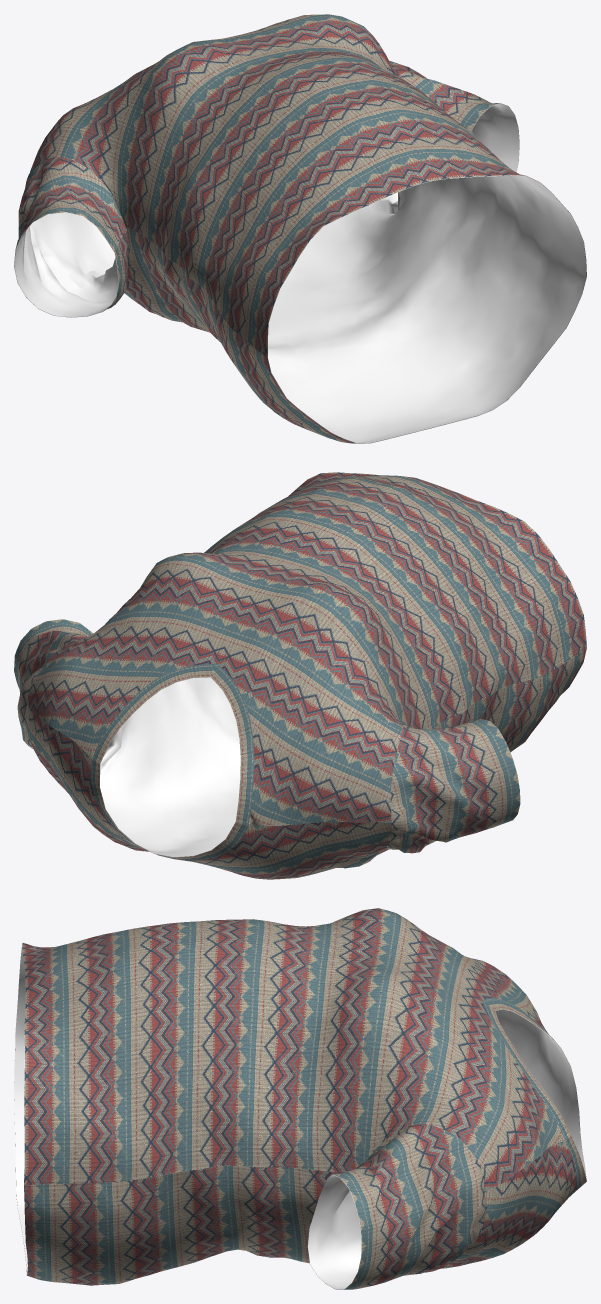
File: male_obs.glb
The picture shows the model from 3 angles, top to bottom: view 1: azimuth 30°, elevation 25°; view 2: azimuth 150°, elevation 25°; view 3: azimuth 270°, elevation 25°; orthographic projection. The views are drawn at different scales.
Parts seen in each view (by area): view 1: male_obs; view 2: male_obs; view 3: male_obs.
Boxes of the visible parts, x1,y1,x2,y2 form: male_obs: (14,14,586,443); male_obs: (14,472,586,879); male_obs: (14,908,586,1289).
Size of the model in its own units: 0.7098 by 0.3984 by 0.65.
Materials: 2 (1 with a texture image).
